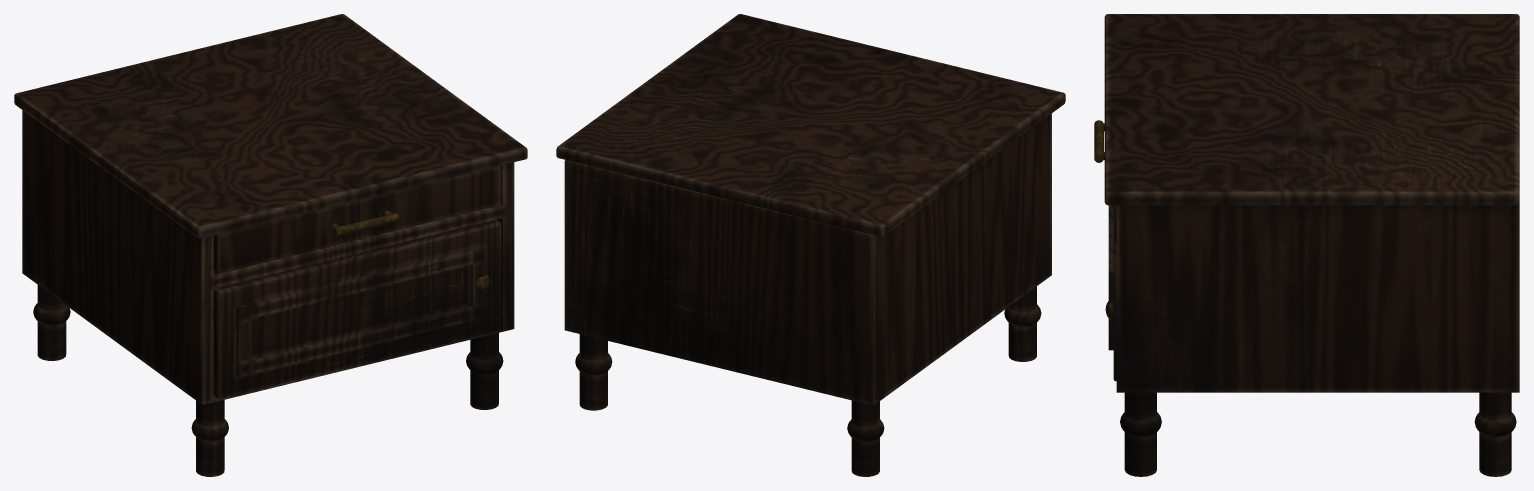
File: attic_nightstand_b.glb
The picture shows the model from 3 angles, left to right: view 1: azimuth 30°, elevation 25°; view 2: azimuth 150°, elevation 25°; view 3: azimuth 270°, elevation 25°; orthographic projection. The views are drawn at different scales.
Visible parts, largest first — view 1: Body, Door0, Drawer0, Drawer0Pull; view 2: Body; view 3: Body, Door0.
Part boxes in pixels (<box>): Body: <box>14,14,527,476</box>; Door0: <box>213,219,500,398</box>; Drawer0: <box>213,165,500,273</box>; Drawer0Pull: <box>326,206,399,236</box>; Body: <box>556,14,1065,476</box>; Body: <box>1104,14,1519,476</box>; Door0: <box>1108,205,1116,381</box>.
Bounding box in the file's own units: 0.53 × 0.4 × 0.528.
Materials: 5 (5 with a texture image).
